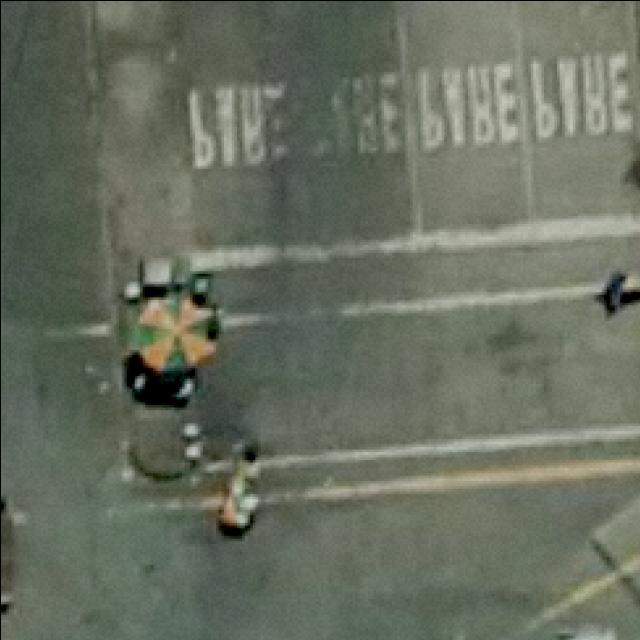vendedor_ambulante: (126, 284, 226, 384)
